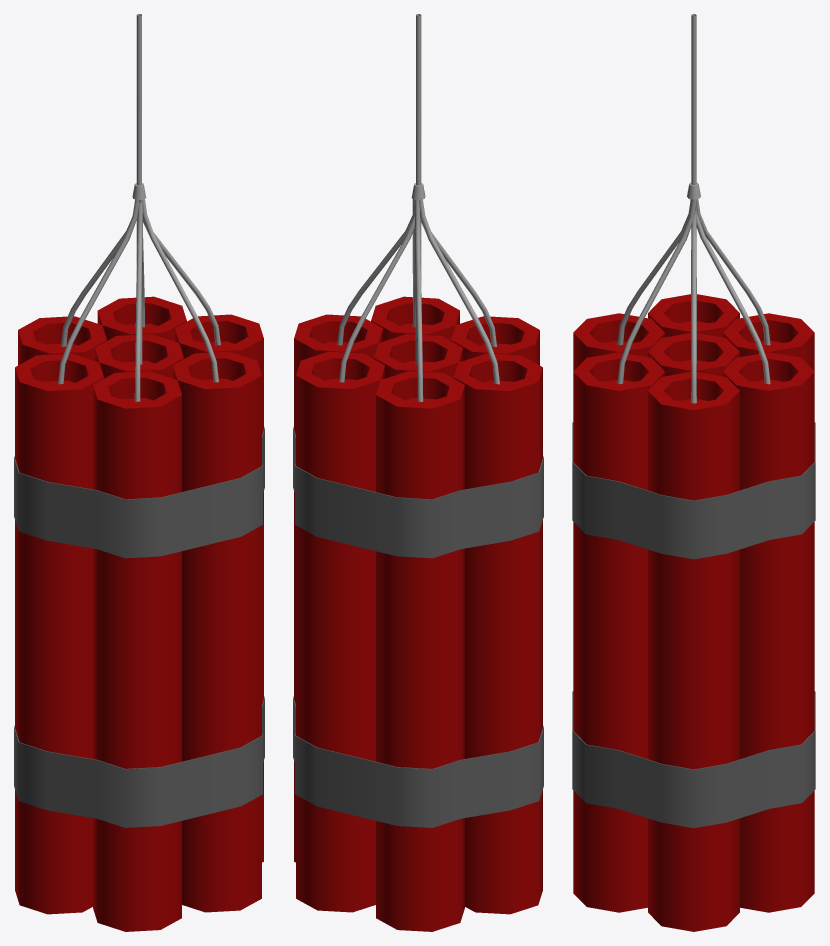
Rendered from Bomb00.fbx.
3 renders of one model, left to right at view 1: azimuth 30°, elevation 25°; view 2: azimuth 150°, elevation 25°; view 3: azimuth 270°, elevation 25°, orthographic.
Parts seen in each view (by area): view 1: dynamite_bundle_low, strap_low, strings_ignorebf, top_string_low; view 2: dynamite_bundle_low, strap_low, strings_ignorebf, top_string_low; view 3: dynamite_bundle_low, strap_low, strings_ignorebf, top_string_low.
Boxes of the visible parts, box(x1,y1,x2,y2) form: dynamite_bundle_low: box(15, 296, 263, 931); strap_low: box(14, 426, 264, 827); strings_ignorebf: box(58, 199, 220, 401); top_string_low: box(136, 14, 141, 185); dynamite_bundle_low: box(294, 296, 542, 931); strap_low: box(293, 426, 543, 827); strings_ignorebf: box(337, 199, 499, 401); top_string_low: box(416, 14, 421, 185); dynamite_bundle_low: box(573, 294, 814, 931); strap_low: box(572, 422, 815, 828); strings_ignorebf: box(617, 199, 770, 403); top_string_low: box(691, 14, 696, 184).
Bounding box in the file's own units: 8.48 × 28.9 × 7.43.
